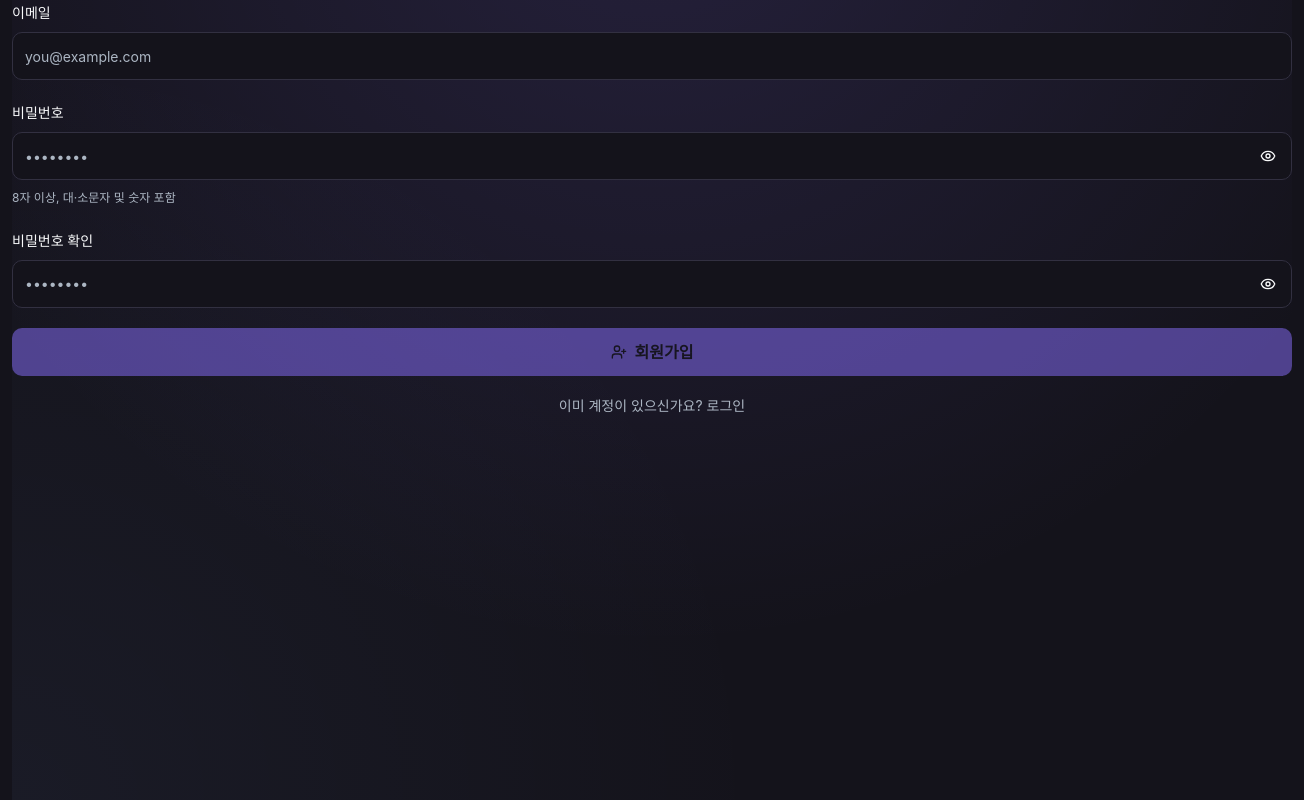
Test: RegisterForm › 비밀번호 불일치 시 실시간 에러를 표시해야 합니다.
This screenshot has width=1304, height=800.
In the password field named "비밀번호 입력": (652, 156) x1=12 y1=132 x2=1292 y2=180, type "Test1234"
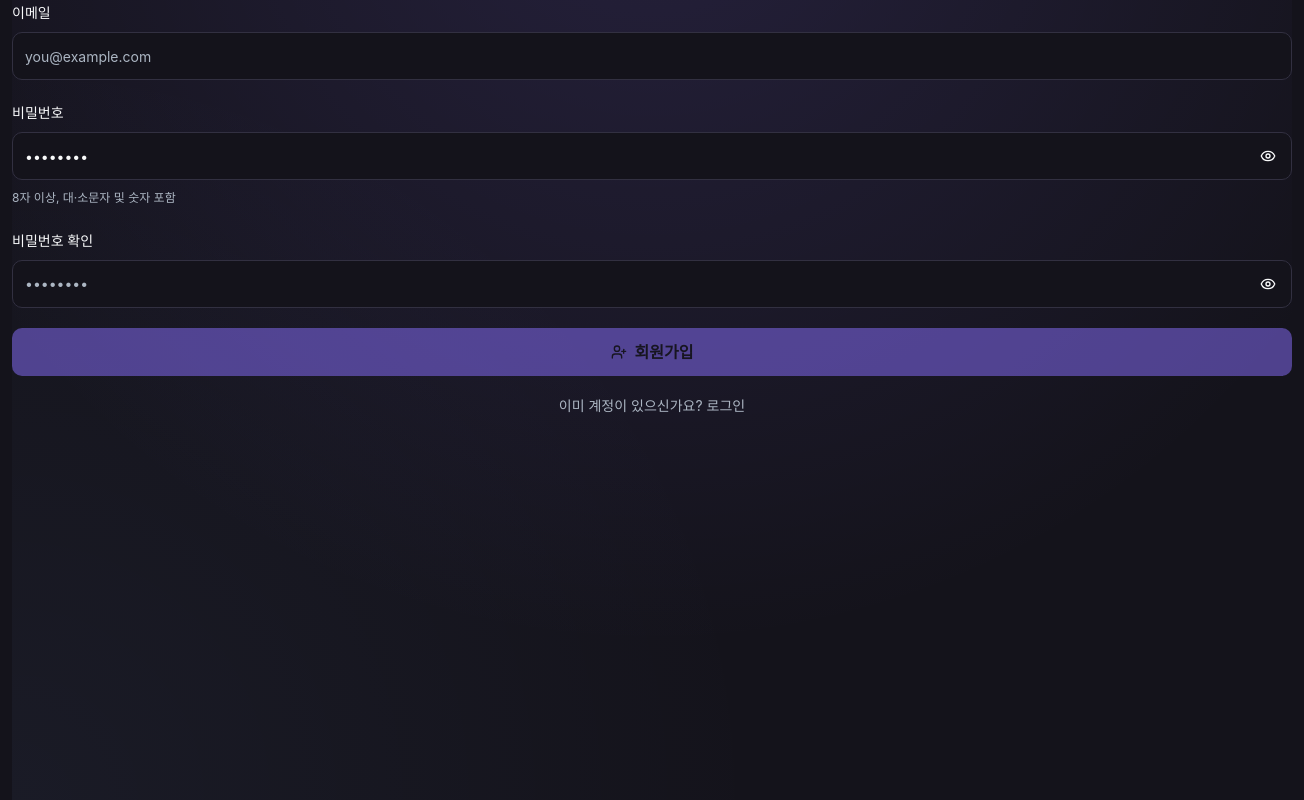
In the password field named "비밀번호 확인 입력": (652, 284) x1=12 y1=260 x2=1292 y2=308, type "Test5678"
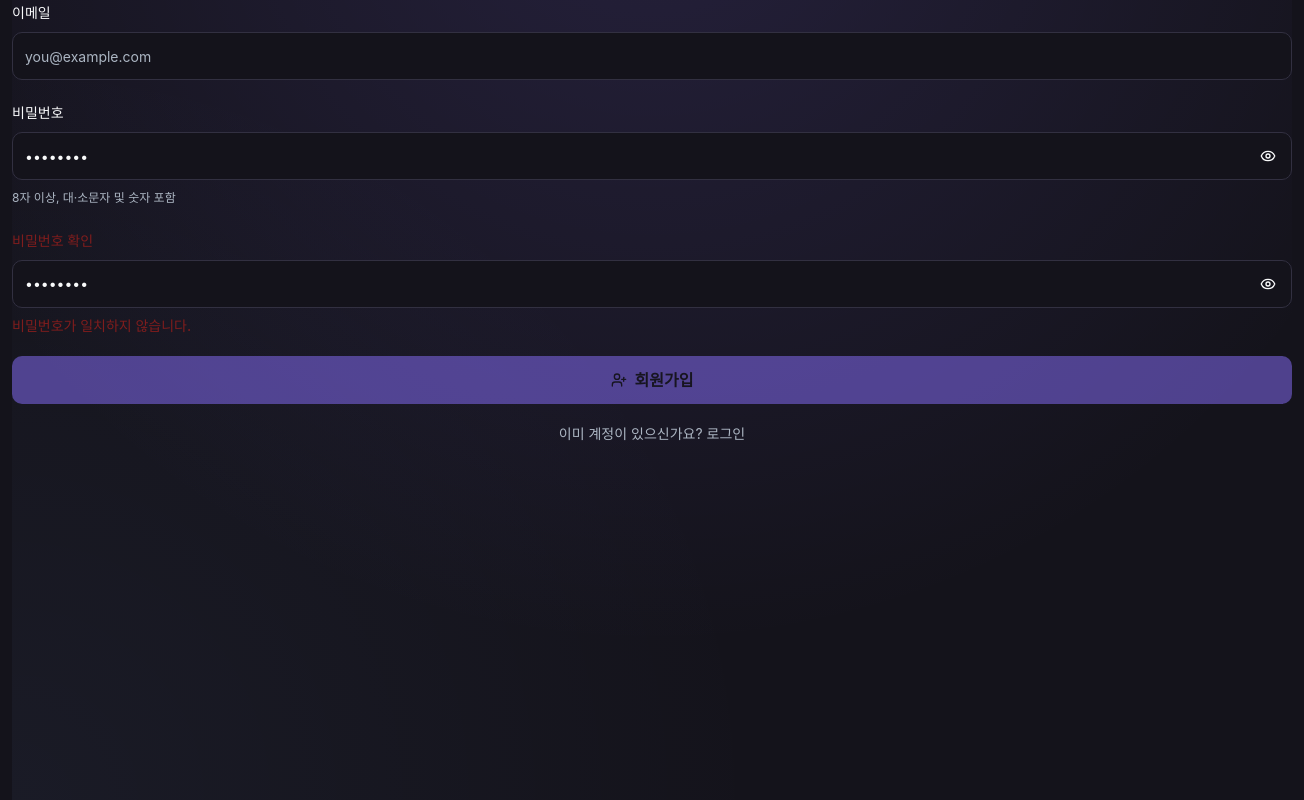
Check: the text "비밀번호가 일치하지 않습니다." is shown, box x1=12 y1=316 x2=191 y2=334
